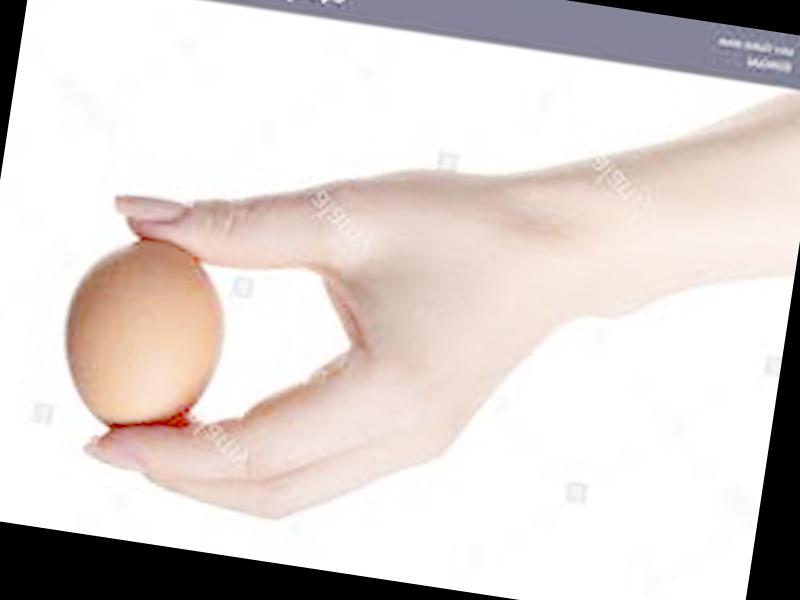Eggs: (53, 232, 239, 442)
